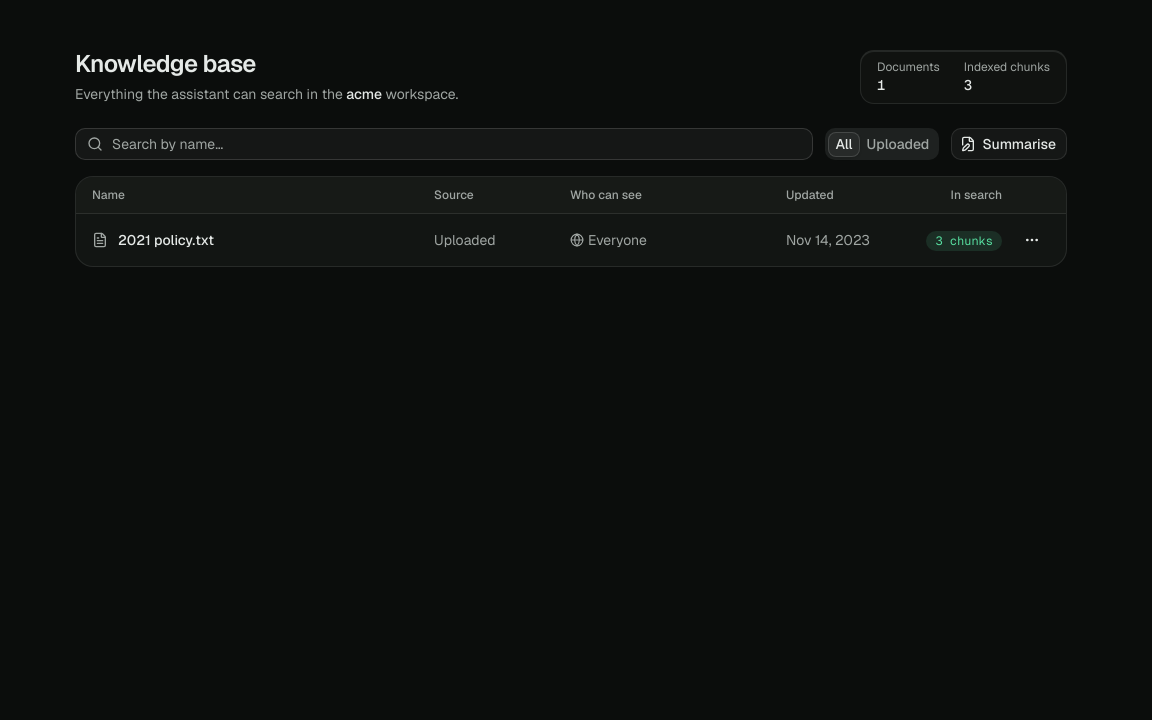
it: source rules on the Knowledge screen › blocks a document from its row and lists the rule
Step 1. Click the button named "Source rules for 2021 policy.txt" → (1032, 240), box [1018, 226, 1046, 254]
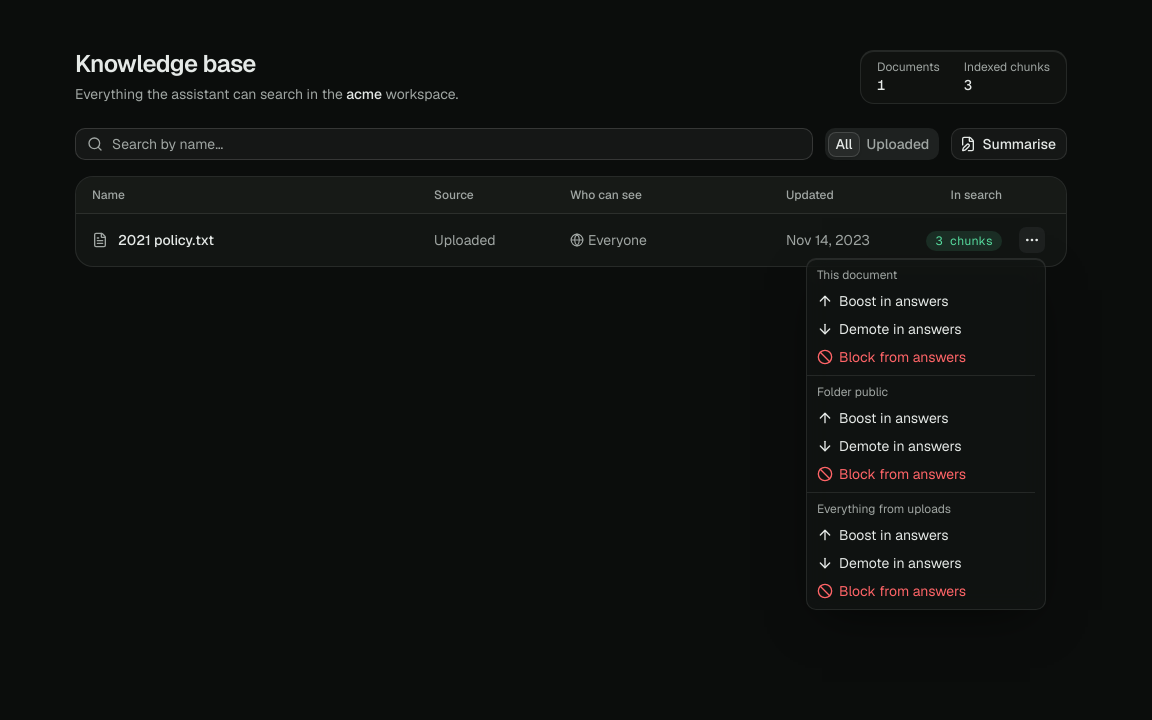
Step 2. Click the menu item "Block from answers" below "This document" → (892, 357), box [817, 348, 966, 366]
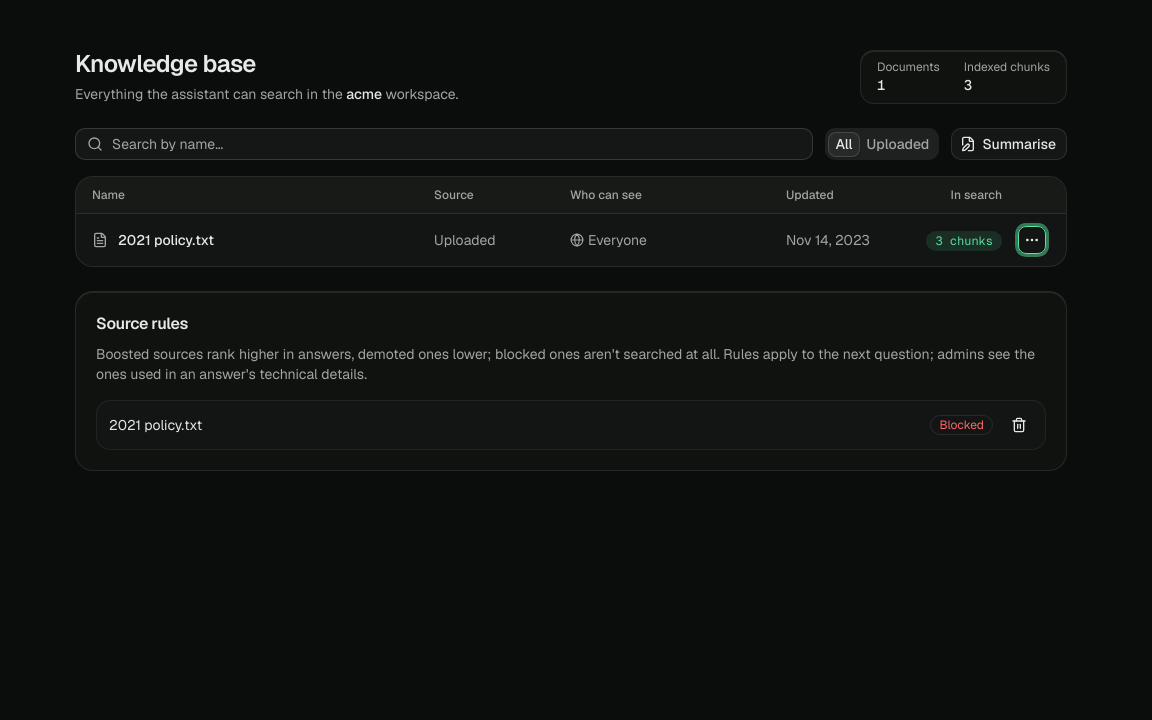
Check: the heading "Source rules" is shown, box [96, 312, 188, 336]
